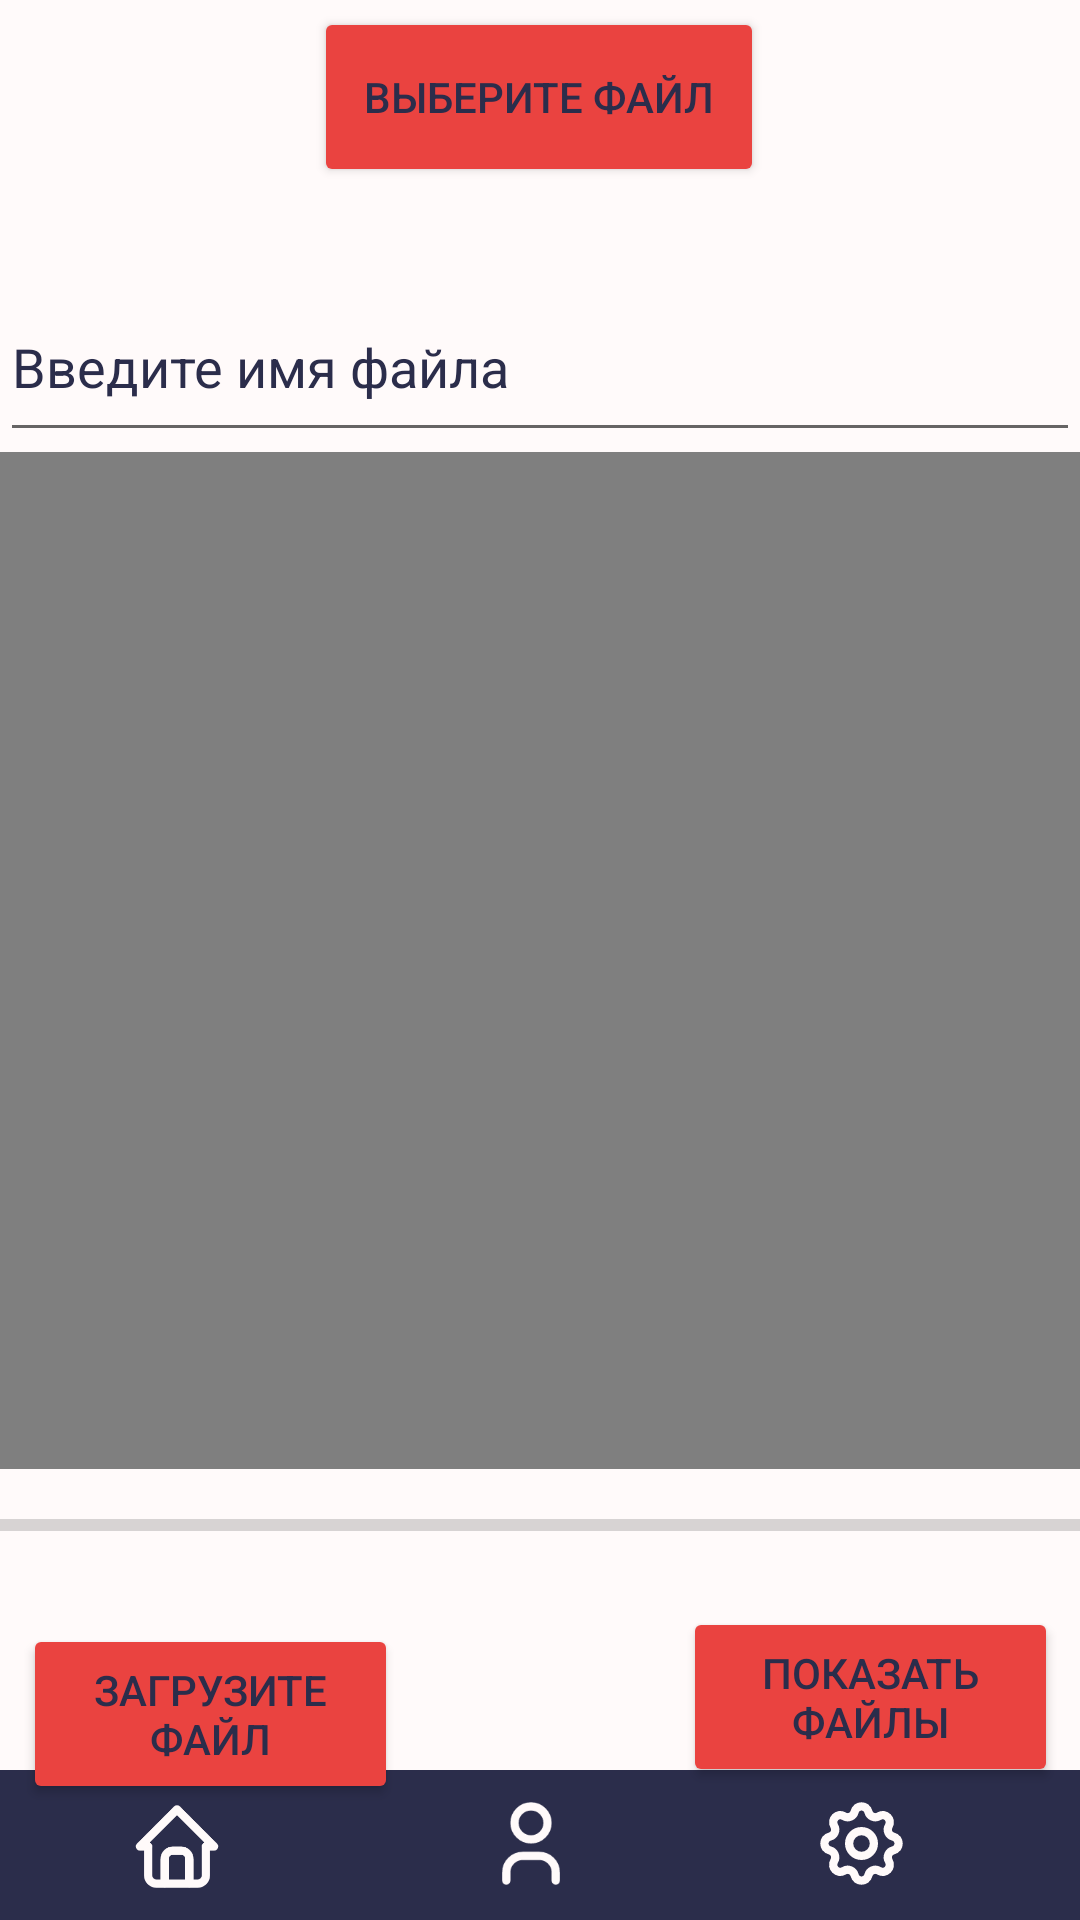

Icons on this 1080px x 1920px Android screen, each with its box as (x1, y1, x2, y2):
home: (135, 1805, 219, 1888)
settings: (820, 1802, 903, 1885)
user: (502, 1802, 560, 1885)
